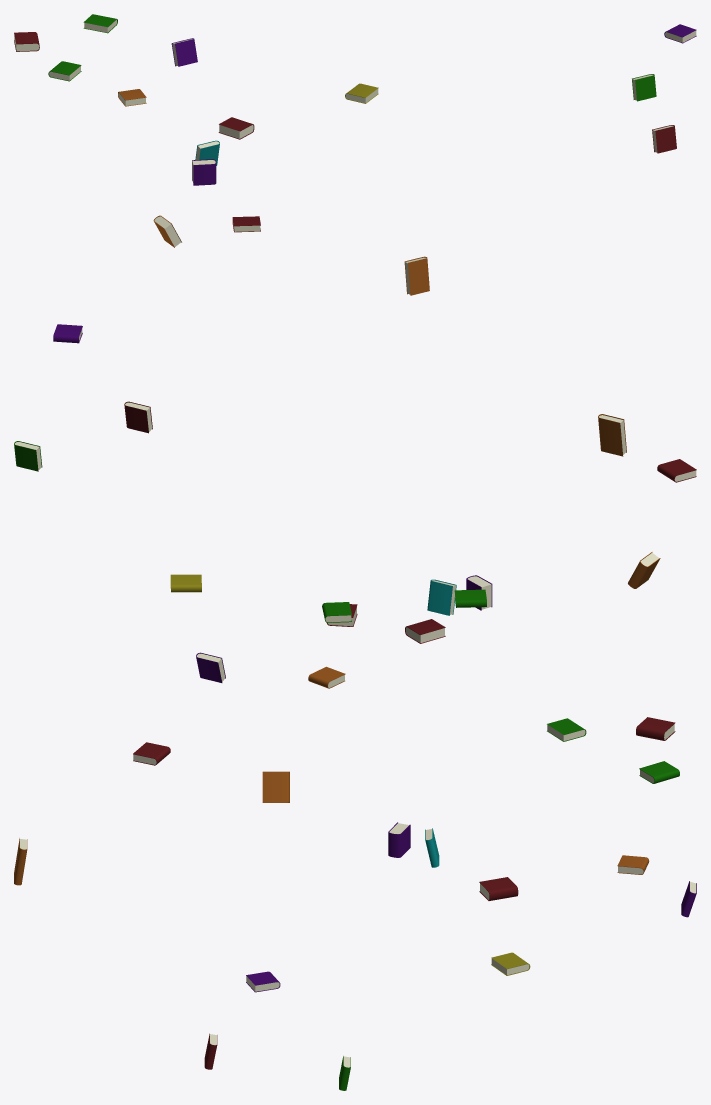
Rendered from books_04.glb.
3 views of the same model, one above another, from view 1: azimuth 30°, elevation 25°; view 2: azimuth 150°, elevation 25°; view 3: azimuth 270°, elevation 25° (orthographic). The views are drawn at different scales.
Parts seen in each view (by area): view 1: Cube.493, Cube.492, Cube.502, Cube.505, Cube.489, Cube.504, Cube.330, Cube.494, Cube.499, Cube.506, Cube.488, Cube.500; view 2: Cube.493, Cube.503, Cube.502, Cube.330, Cube.489, Cube.505, Cube.500, Cube.488, Cube.494, Cube.499, Cube.506; view 3: Cube.488, Cube.504, Cube.330, Cube.492, Cube.499, Cube.506, Cube.494, Cube.500.
Boxes of the visible parts, left/top/right/bottom form: Cube.493: left=404, top=256, right=429, bottom=295; Cube.492: left=192, top=159, right=216, bottom=185; Cube.502: left=652, top=125, right=676, bottom=153; Cube.505: left=171, top=38, right=197, bottom=66; Cube.489: left=632, top=74, right=656, bottom=101; Cube.504: left=218, top=117, right=254, bottom=139; Cube.330: left=14, top=32, right=39, bottom=51; Cube.494: left=345, top=83, right=378, bottom=103; Cube.499: left=83, top=14, right=117, bottom=33; Cube.506: left=48, top=61, right=81, bottom=81; Cube.488: left=153, top=215, right=181, bottom=247; Cube.500: left=232, top=216, right=260, bottom=232; Cube.493: left=598, top=414, right=626, bottom=456; Cube.503: left=427, top=579, right=456, bottom=615; Cube.502: left=124, top=401, right=152, bottom=433; Cube.330: left=405, top=619, right=445, bottom=643; Cube.489: left=14, top=441, right=42, bottom=471; Cube.505: left=196, top=652, right=225, bottom=682; Cube.500: left=657, top=459, right=696, bottom=482; Cube.488: left=628, top=552, right=660, bottom=588; Cube.494: left=170, top=574, right=201, bottom=592; Cube.499: left=322, top=602, right=351, bottom=622; Cube.506: left=454, top=589, right=486, bottom=607; Cube.488: left=262, top=771, right=289, bottom=802; Cube.504: left=479, top=877, right=518, bottom=900; Cube.330: left=636, top=717, right=675, bottom=740; Cube.492: left=388, top=822, right=410, bottom=857; Cube.499: left=639, top=761, right=679, bottom=783; Cube.506: left=547, top=718, right=586, bottom=741; Cube.494: left=491, top=952, right=530, bottom=975; Cube.500: left=133, top=742, right=170, bottom=765.
Size of the model in its own units: 3.42 by 0.5824 by 3.33.
